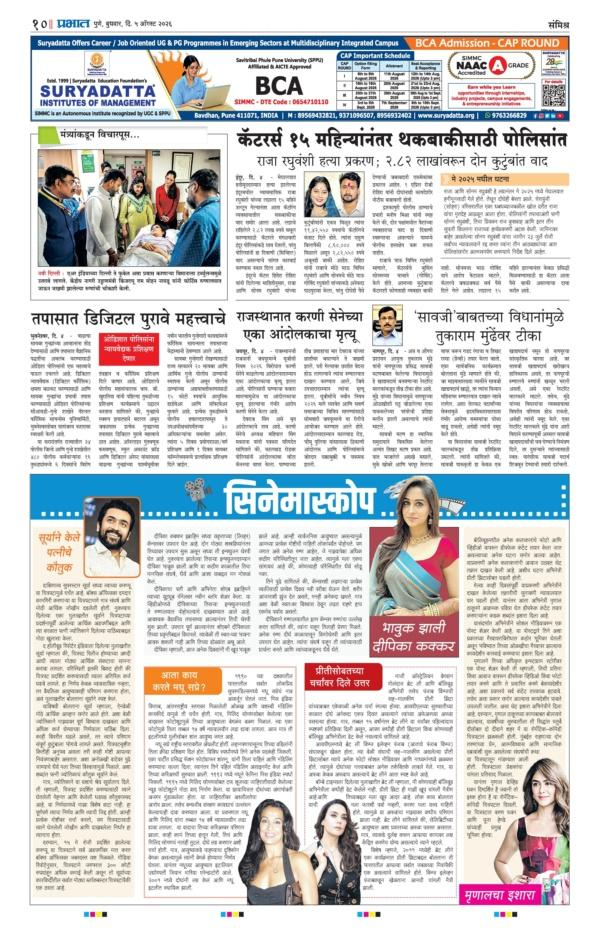Article: (19, 471, 585, 904), (225, 118, 587, 303), (16, 30, 600, 122), (17, 118, 227, 300), (365, 302, 581, 472), (12, 302, 230, 470), (229, 298, 365, 471)
